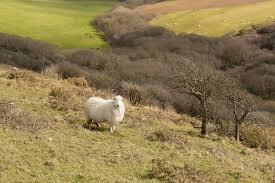sheep: (83, 94, 125, 138)
